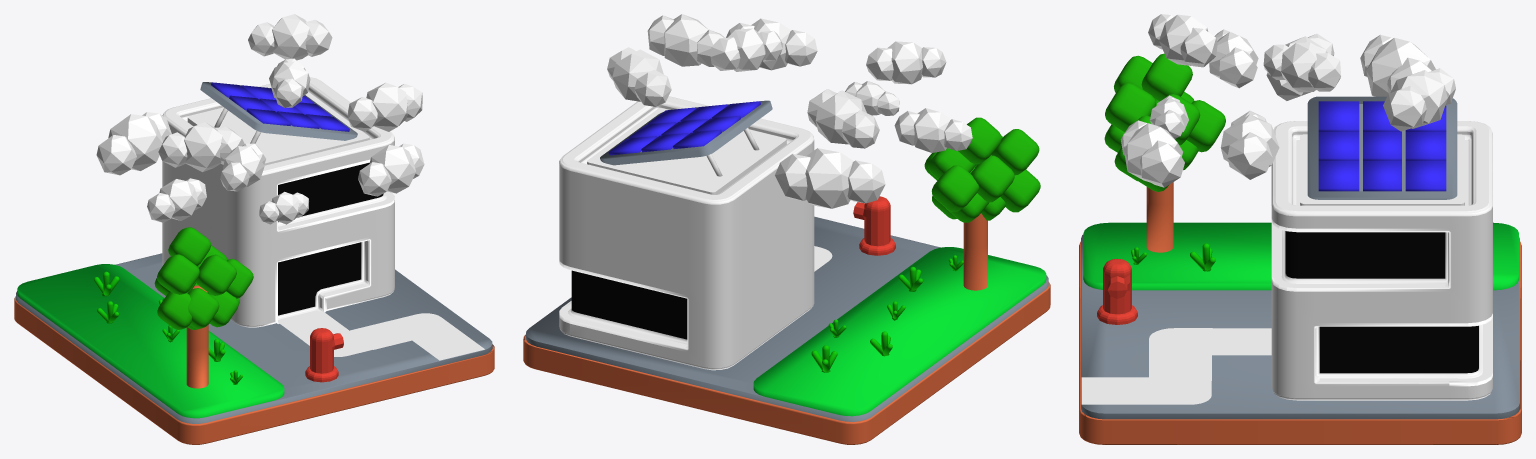
The model's file is cloud.gltf.
The picture shows the model from 3 angles, left to right: view 1: azimuth 30°, elevation 25°; view 2: azimuth 150°, elevation 25°; view 3: azimuth 270°, elevation 25°; orthographic projection. The views are drawn at different scales.
Visible parts, largest first — view 1: Plane, Plane.002, Plane.001, Plane.003, Cube, Icosphere.005, Plane.006, Plane.005, Icosphere.008, Icosphere.001, Icosphere.009, Icosphere.004 (+11 smaller); view 2: Plane, Plane.002, Plane.001, Plane.003, Cube, Plane.006, Icosphere.005, Plane.005, Icosphere.001, Icosphere.009, Icosphere.008, Icosphere.002 (+7 smaller); view 3: Plane, Plane.001, Plane.002, Plane.003, Plane.005, Cube, Plane.004, Plane.009, Icosphere.008, Icosphere.004, Icosphere.007, Icosphere.009 (+11 smaller).
Part boxes in pixels (<box>): Plane: <box>162,77,394,327</box>; Plane.002: <box>17,264,284,418</box>; Plane.001: <box>16,253,492,423</box>; Plane.003: <box>14,296,494,444</box>; Cube: <box>154,227,253,330</box>; Icosphere.005: <box>96,112,171,175</box>; Plane.006: <box>187,92,369,165</box>; Plane.005: <box>211,82,349,131</box>; Icosphere.008: <box>248,14,332,60</box>; Icosphere.001: <box>158,122,244,172</box>; Icosphere.009: <box>348,82,422,131</box>; Icosphere.004: <box>358,143,424,196</box>; Plane: <box>559,96,814,370</box>; Plane.002: <box>753,247,1046,416</box>; Plane.001: <box>526,216,1048,421</box>; Plane.003: <box>523,282,1050,444</box>; Cube: <box>924,117,1040,222</box>; Plane.006: <box>587,108,786,194</box>; Icosphere.005: <box>775,148,885,208</box>; Plane.005: <box>608,101,760,155</box>; Icosphere.001: <box>807,89,879,148</box>; Icosphere.009: <box>647,14,724,66</box>; Icosphere.008: <box>607,47,671,106</box>; Icosphere.002: <box>866,41,946,84</box>; Plane: <box>1271,121,1492,400</box>; Plane.001: <box>1081,235,1519,419</box>; Plane.002: <box>1083,222,1518,290</box>; Plane.003: <box>1079,241,1521,444</box>; Plane.005: <box>1318,101,1446,191</box>; Cube: <box>1104,53,1225,191</box>; Plane.004: <box>1307,96,1457,199</box>; Plane.009: <box>1149,328,1271,355</box>; Icosphere.008: <box>1383,68,1455,131</box>; Icosphere.004: <box>1121,120,1184,187</box>; Icosphere.007: <box>1263,42,1340,92</box>; Icosphere.009: <box>1220,110,1279,179</box>.
Bounding box in the file's own units: 7.98 × 6.48 × 7.88.
